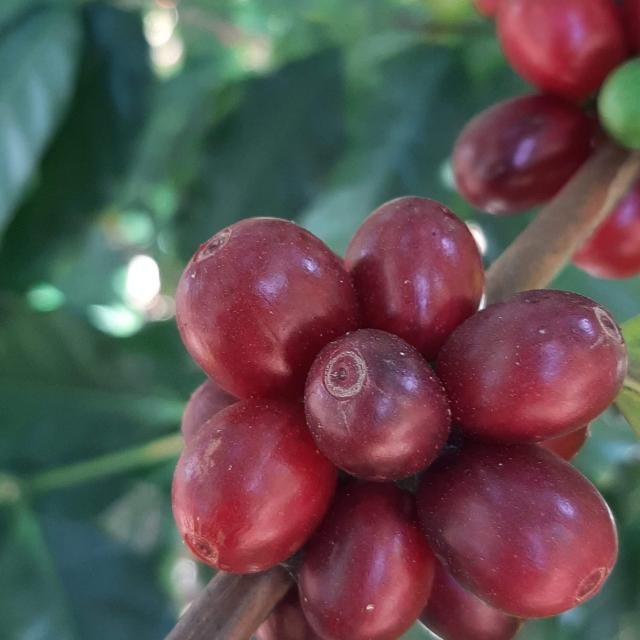green: (599, 56, 640, 150)
red: (418, 444, 619, 620), (175, 217, 360, 400), (436, 290, 629, 445), (172, 399, 338, 575), (344, 196, 485, 361), (305, 329, 451, 482), (299, 481, 436, 640), (453, 94, 596, 215), (497, 0, 629, 100), (420, 563, 523, 640), (574, 179, 640, 279), (181, 380, 239, 445)
